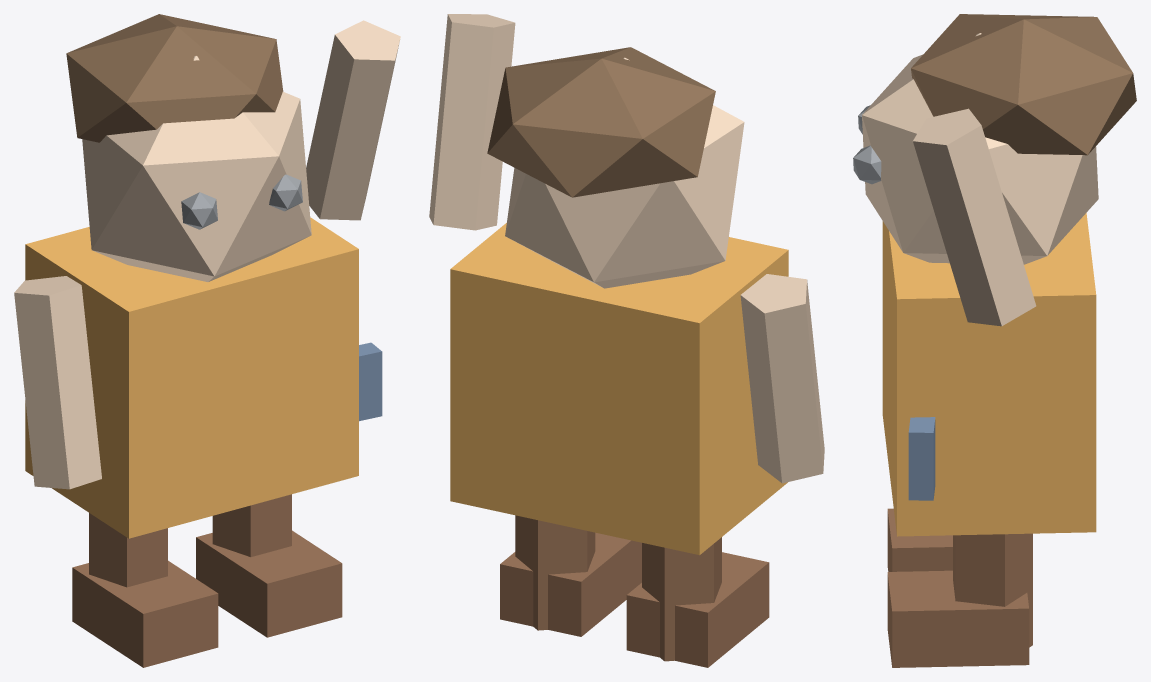
File: npcpose_villager_wave_04.glb
The picture shows the model from 3 angles, left to right: view 1: azimuth 30°, elevation 25°; view 2: azimuth 150°, elevation 25°; view 3: azimuth 270°, elevation 25°; orthographic projection. The views are drawn at different scales.
Parts seen in each view (by area): view 1: npcpose; view 2: npcpose; view 3: npcpose.
Part boxes in pixels (x1,y1,x2,y2): npcpose: (14,14,400,667); npcpose: (429,14,824,667); npcpose: (853,14,1136,667).
Bounding box in the file's own units: 0.7138 × 1.06 × 0.4552.
